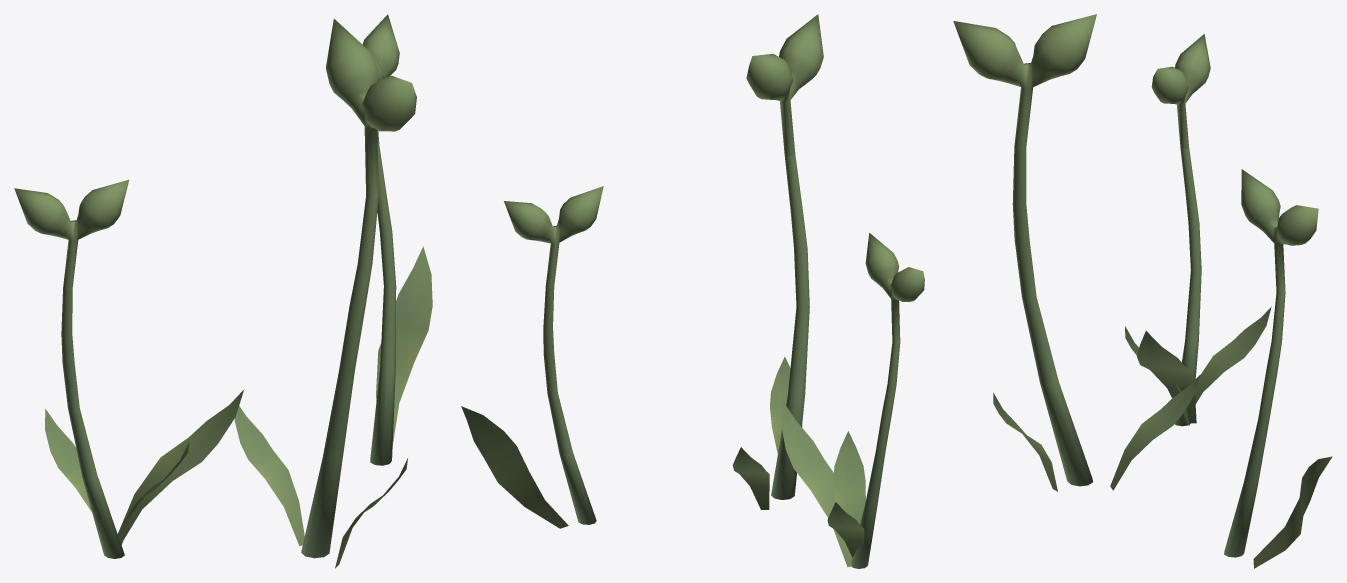
File: flowersSprout.fbx
3 views of the same model, side by side, from view 1: azimuth 30°, elevation 25°; view 2: azimuth 150°, elevation 25°; view 3: azimuth 270°, elevation 25° (orthographic). The views are drawn at different scales.
Visible parts, largest first — view 1: flower bud2.018, flower bud2.020, flower bud2.019, COPY flower bud leaf bend small.025, COPY flower bud leaf bend small.022, COPY flower bud leaf bend small.026, COPY flower bud leaf bend small.021; view 2: flower bud2.018, flower bud2.019, flower bud2.020, COPY flower bud leaf bend small.025, COPY flower bud leaf bend small.022, COPY flower bud leaf bend small.023, COPY flower bud leaf bend small.026, COPY flower bud leaf bend small.024, COPY flower bud leaf bend small.021; view 3: flower bud2.018, flower bud2.019, flower bud2.020, COPY flower bud leaf bend small.026, COPY flower bud leaf bend small.022, COPY flower bud leaf bend small.025, COPY flower bud leaf bend small.021, COPY flower bud leaf bend small.024.
Boxes of the visible parts, x1,y1,x2,y2 form: flower bud2.018: (301,19,416,558); flower bud2.020: (14,179,129,558); flower bud2.019: (362,14,399,465); COPY flower bud leaf bend small.025: (376,246,432,445); COPY flower bud leaf bend small.022: (117,390,243,543); COPY flower bud leaf bend small.026: (234,406,304,546); COPY flower bud leaf bend small.021: (45,409,109,511); flower bud2.018: (746,14,823,499); flower bud2.019: (504,186,603,524); flower bud2.020: (851,233,924,568); COPY flower bud leaf bend small.025: (461,406,568,528); COPY flower bud leaf bend small.022: (781,401,852,567); COPY flower bud leaf bend small.023: (833,431,865,524); COPY flower bud leaf bend small.026: (732,447,769,509); COPY flower bud leaf bend small.024: (770,356,802,453); COPY flower bud leaf bend small.021: (827,502,864,557); flower bud2.018: (953,14,1096,486); flower bud2.019: (1224,169,1318,557); flower bud2.020: (1151,34,1210,426); COPY flower bud leaf bend small.026: (1110,375,1199,490); COPY flower bud leaf bend small.022: (1137,331,1196,423); COPY flower bud leaf bend small.025: (1253,456,1332,568); COPY flower bud leaf bend small.021: (1195,307,1271,403); COPY flower bud leaf bend small.024: (993,392,1057,491).
Bounding box in the file's own units: 12.79 × 13.6 × 9.53.
